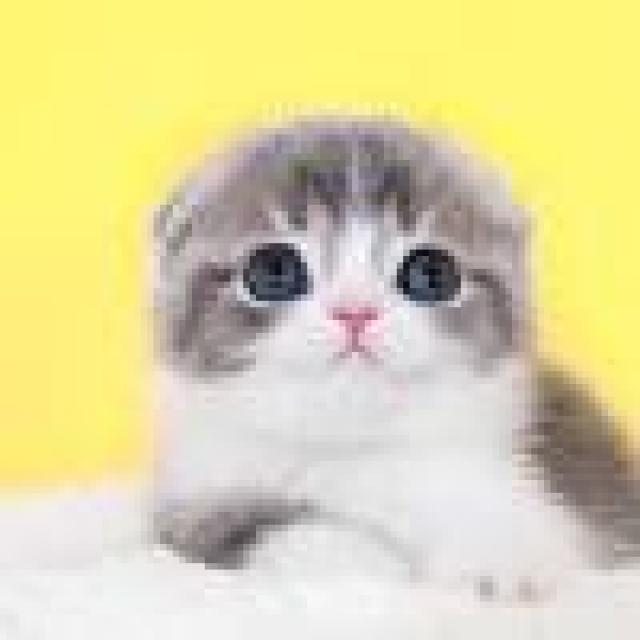cat-face: (130, 68, 562, 516)
